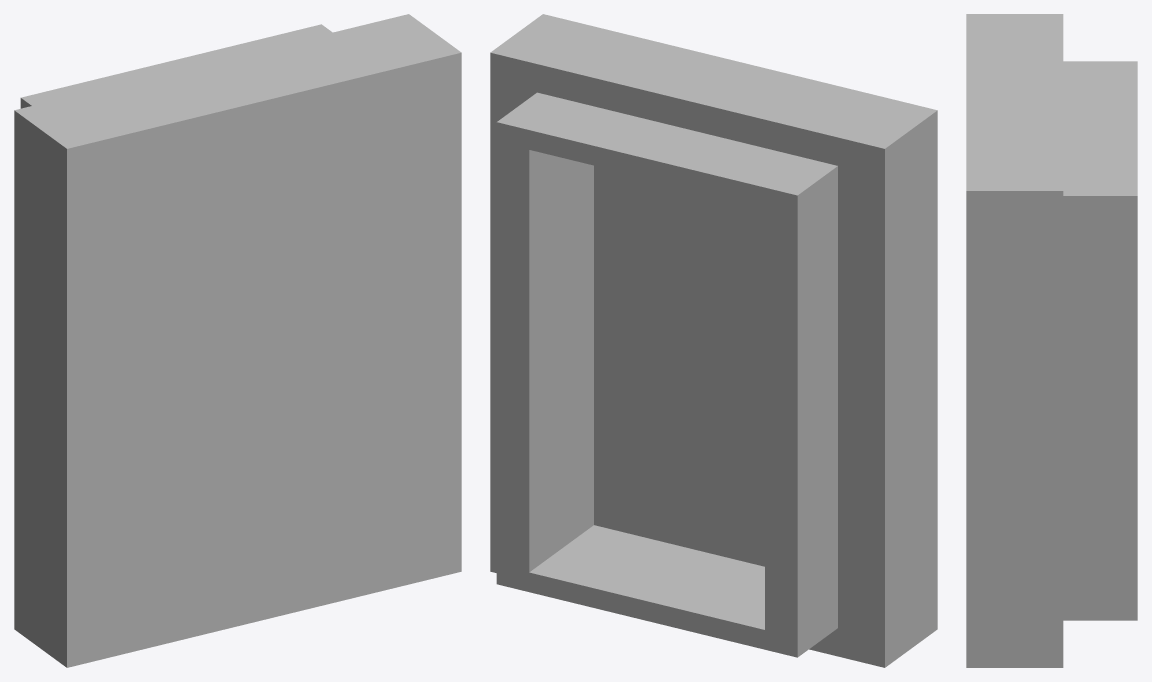
Rendered from Itr_Obj_Fridge1_Bottom_Door_Left_01.FBX.
3 views of the same model, side by side, from view 1: azimuth 30°, elevation 25°; view 2: azimuth 150°, elevation 25°; view 3: azimuth 270°, elevation 25° (orthographic). The views are drawn at different scales.
Visible parts, largest first — view 1: Itr_Obj_Fridge1_Bottom_Door_Left_01; view 2: Itr_Obj_Fridge1_Bottom_Door_Left_01; view 3: Itr_Obj_Fridge1_Bottom_Door_Left_01.
Boxes of the visible parts, <box> form: Itr_Obj_Fridge1_Bottom_Door_Left_01: <box>14,14,461,667</box>; Itr_Obj_Fridge1_Bottom_Door_Left_01: <box>490,14,937,667</box>; Itr_Obj_Fridge1_Bottom_Door_Left_01: <box>966,14,1137,667</box>.
Size of the model in its own units: 22.45 by 28.21 by 9.19.
